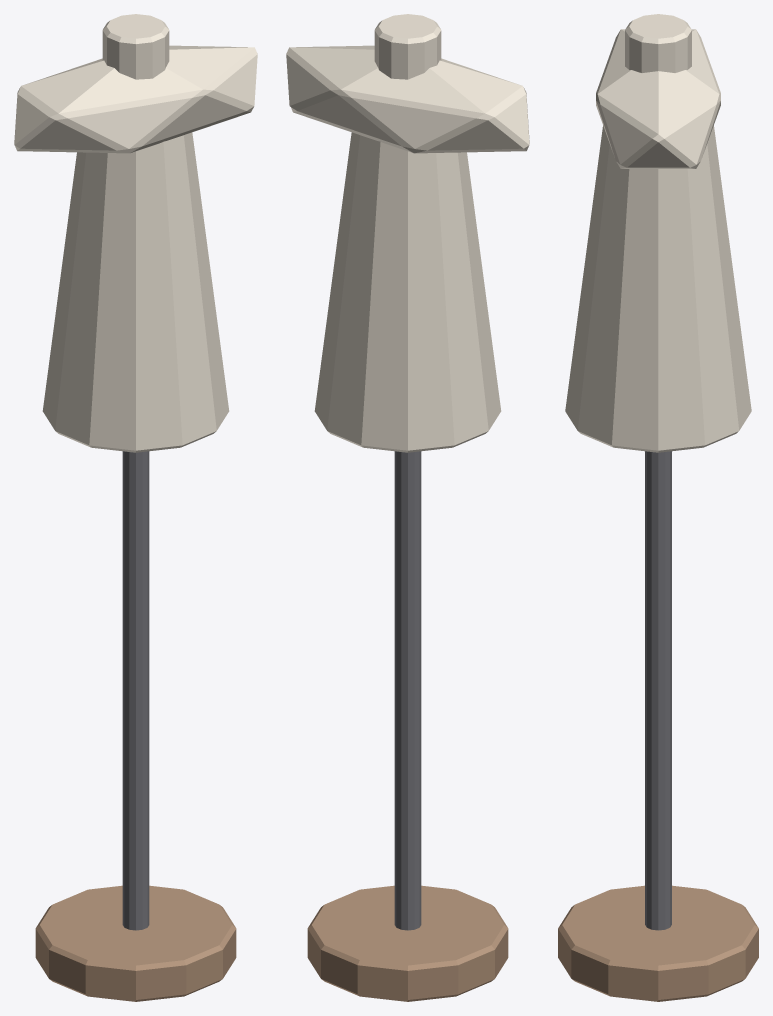
Rendered from SM_Dress_Form.fbx.
3 renders of one model, left to right at view 1: azimuth 30°, elevation 25°; view 2: azimuth 150°, elevation 25°; view 3: azimuth 270°, elevation 25°, orthographic.
Parts seen in each view (by area): view 1: Dress_Form; view 2: Dress_Form; view 3: Dress_Form.
Boxes of the visible parts, bbox=[...] form: Dress_Form: bbox=[14, 14, 257, 1001]; Dress_Form: bbox=[286, 14, 529, 1001]; Dress_Form: bbox=[558, 14, 758, 1001].
Bounding box in the file's own units: 41.91 × 154 × 30.
